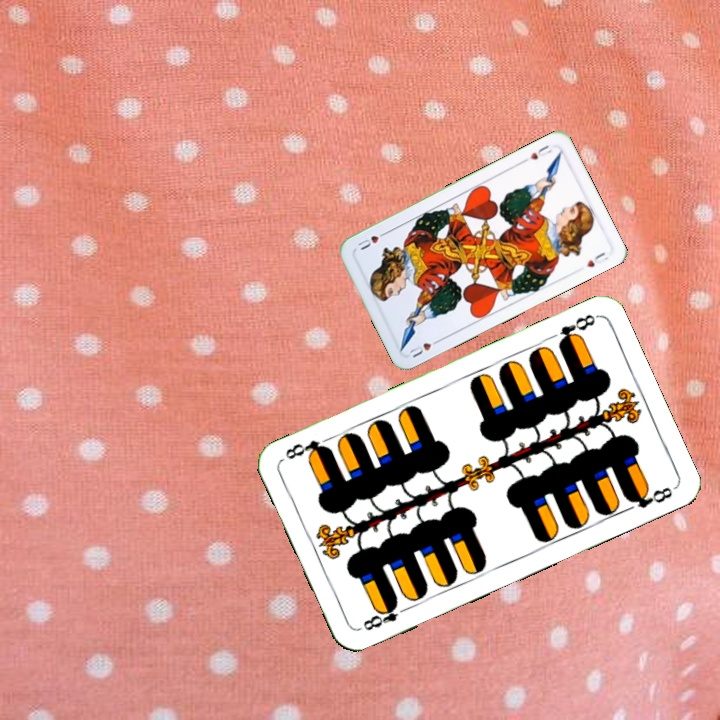E8: (359, 597, 412, 633), (554, 310, 599, 350)
HU: (405, 335, 443, 360), (519, 141, 554, 165)
